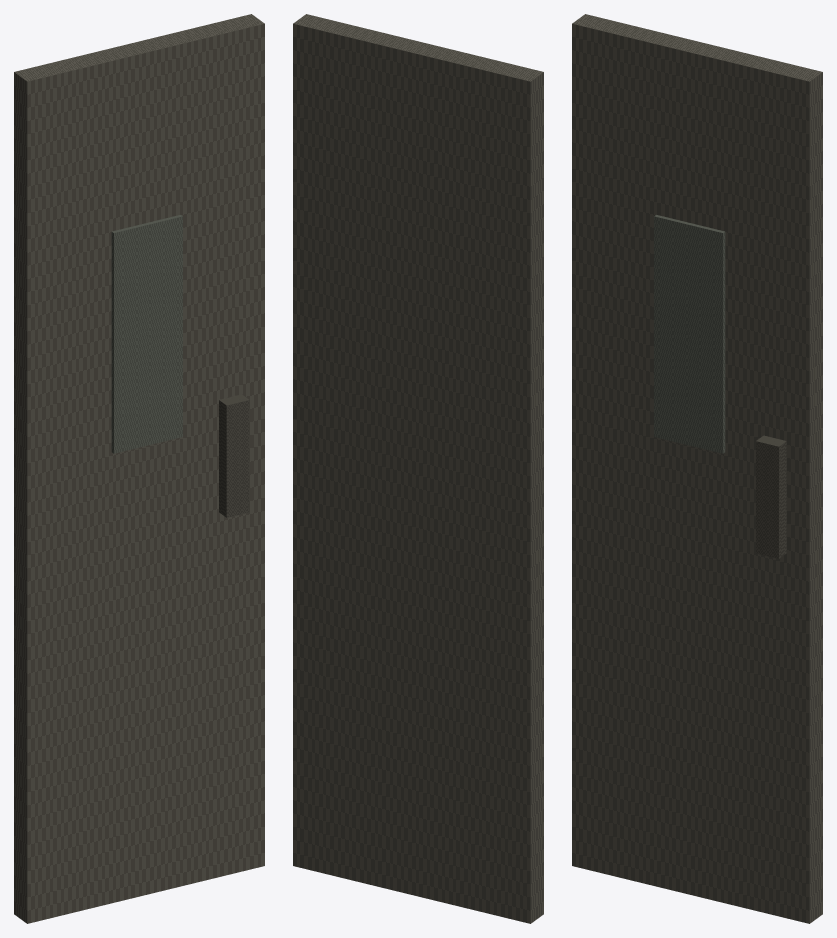
File: prop_elev_door_L.glb
3 renders of one model, left to right at view 1: azimuth 30°, elevation 25°; view 2: azimuth 150°, elevation 25°; view 3: azimuth 330°, elevation 25°, orthographic.
Parts seen in each view (by area): view 1: prop_elev_door_L; view 2: prop_elev_door_L; view 3: prop_elev_door_L.
Boxes of the visible parts, x1=… form: prop_elev_door_L: x1=14, y1=14, x2=264, y2=923; prop_elev_door_L: x1=293, y1=14, x2=543, y2=923; prop_elev_door_L: x1=572, y1=14, x2=822, y2=923.
Size of the model in its own units: 0.62 by 2.1 by 0.095.
1 material, 1 textured.
